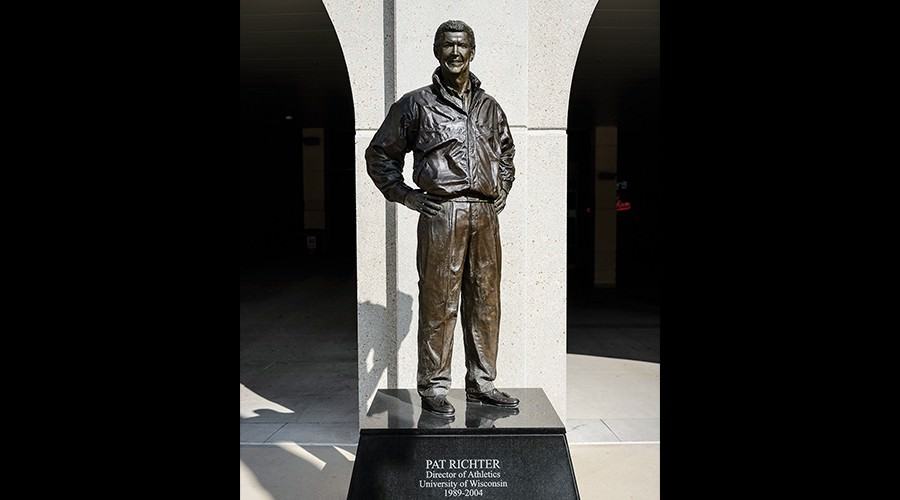person-like: (360, 13, 525, 422)
